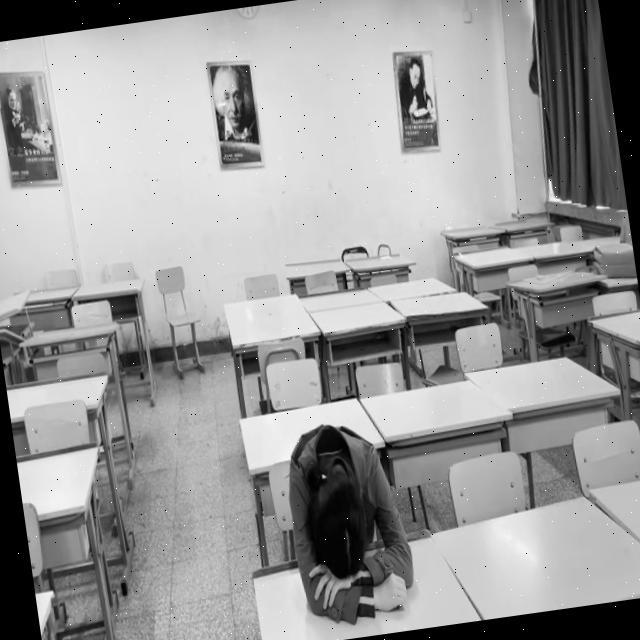sleep: (276, 413, 423, 628)
